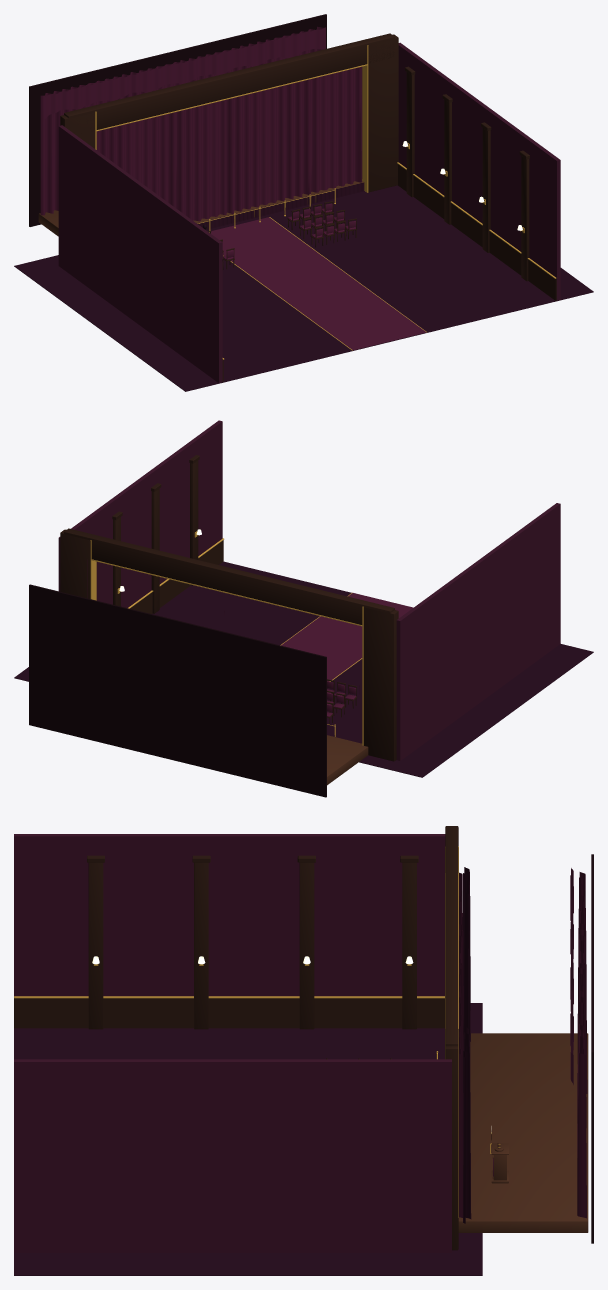
Rendered from saleroom-v4.glb.
3 renders of one model, top to bottom at view 1: azimuth 30°, elevation 25°; view 2: azimuth 150°, elevation 25°; view 3: azimuth 270°, elevation 25°, orthographic. The views are drawn at different scales.
Parts seen in each view (by area): view 1: House, Floor, Tab_R, Tab_L, Valance, BackWall, Curtain_L, StageSkirt, Stage, Curtain_R; view 2: House, BackWall, Floor, Stage; view 3: House, Floor, Stage, Curtain_R, Curtain_SideR, Curtain_SideL, BackWall, Tab_R, Curtain_L, Valance, Lectern, Tab_L.
Boxes of the visible parts, x1,y1,x2,y2 form: House: (58,33,560,383); Floor: (14,185,593,391); Tab_R: (227,66,362,213); Tab_L: (96,99,227,221); Valance: (44,27,325,118); BackWall: (29,14,326,226); Curtain_L: (40,60,182,215); StageSkirt: (197,182,364,229); Stage: (38,179,363,236); Curtain_R: (180,26,323,82); House: (58,420,560,761); BackWall: (29,584,326,797); Floor: (14,561,593,777); Stage: (327,735,368,785); House: (14,826,458,1252); Floor: (14,1003,482,1275); Stage: (458,1033,588,1232); Curtain_R: (577,963,586,1218); Curtain_SideR: (463,1027,471,1223); Curtain_SideL: (462,867,470,1053); BackWall: (591,854,593,1243); Tab_R: (459,963,463,1217); Curtain_L: (578,872,587,1127); Valance: (570,868,573,1084); Lectern: (490,1143,508,1183); Tab_L: (459,872,463,1054).
Size of the model in its own units: 22 by 7.91 by 19.8.
